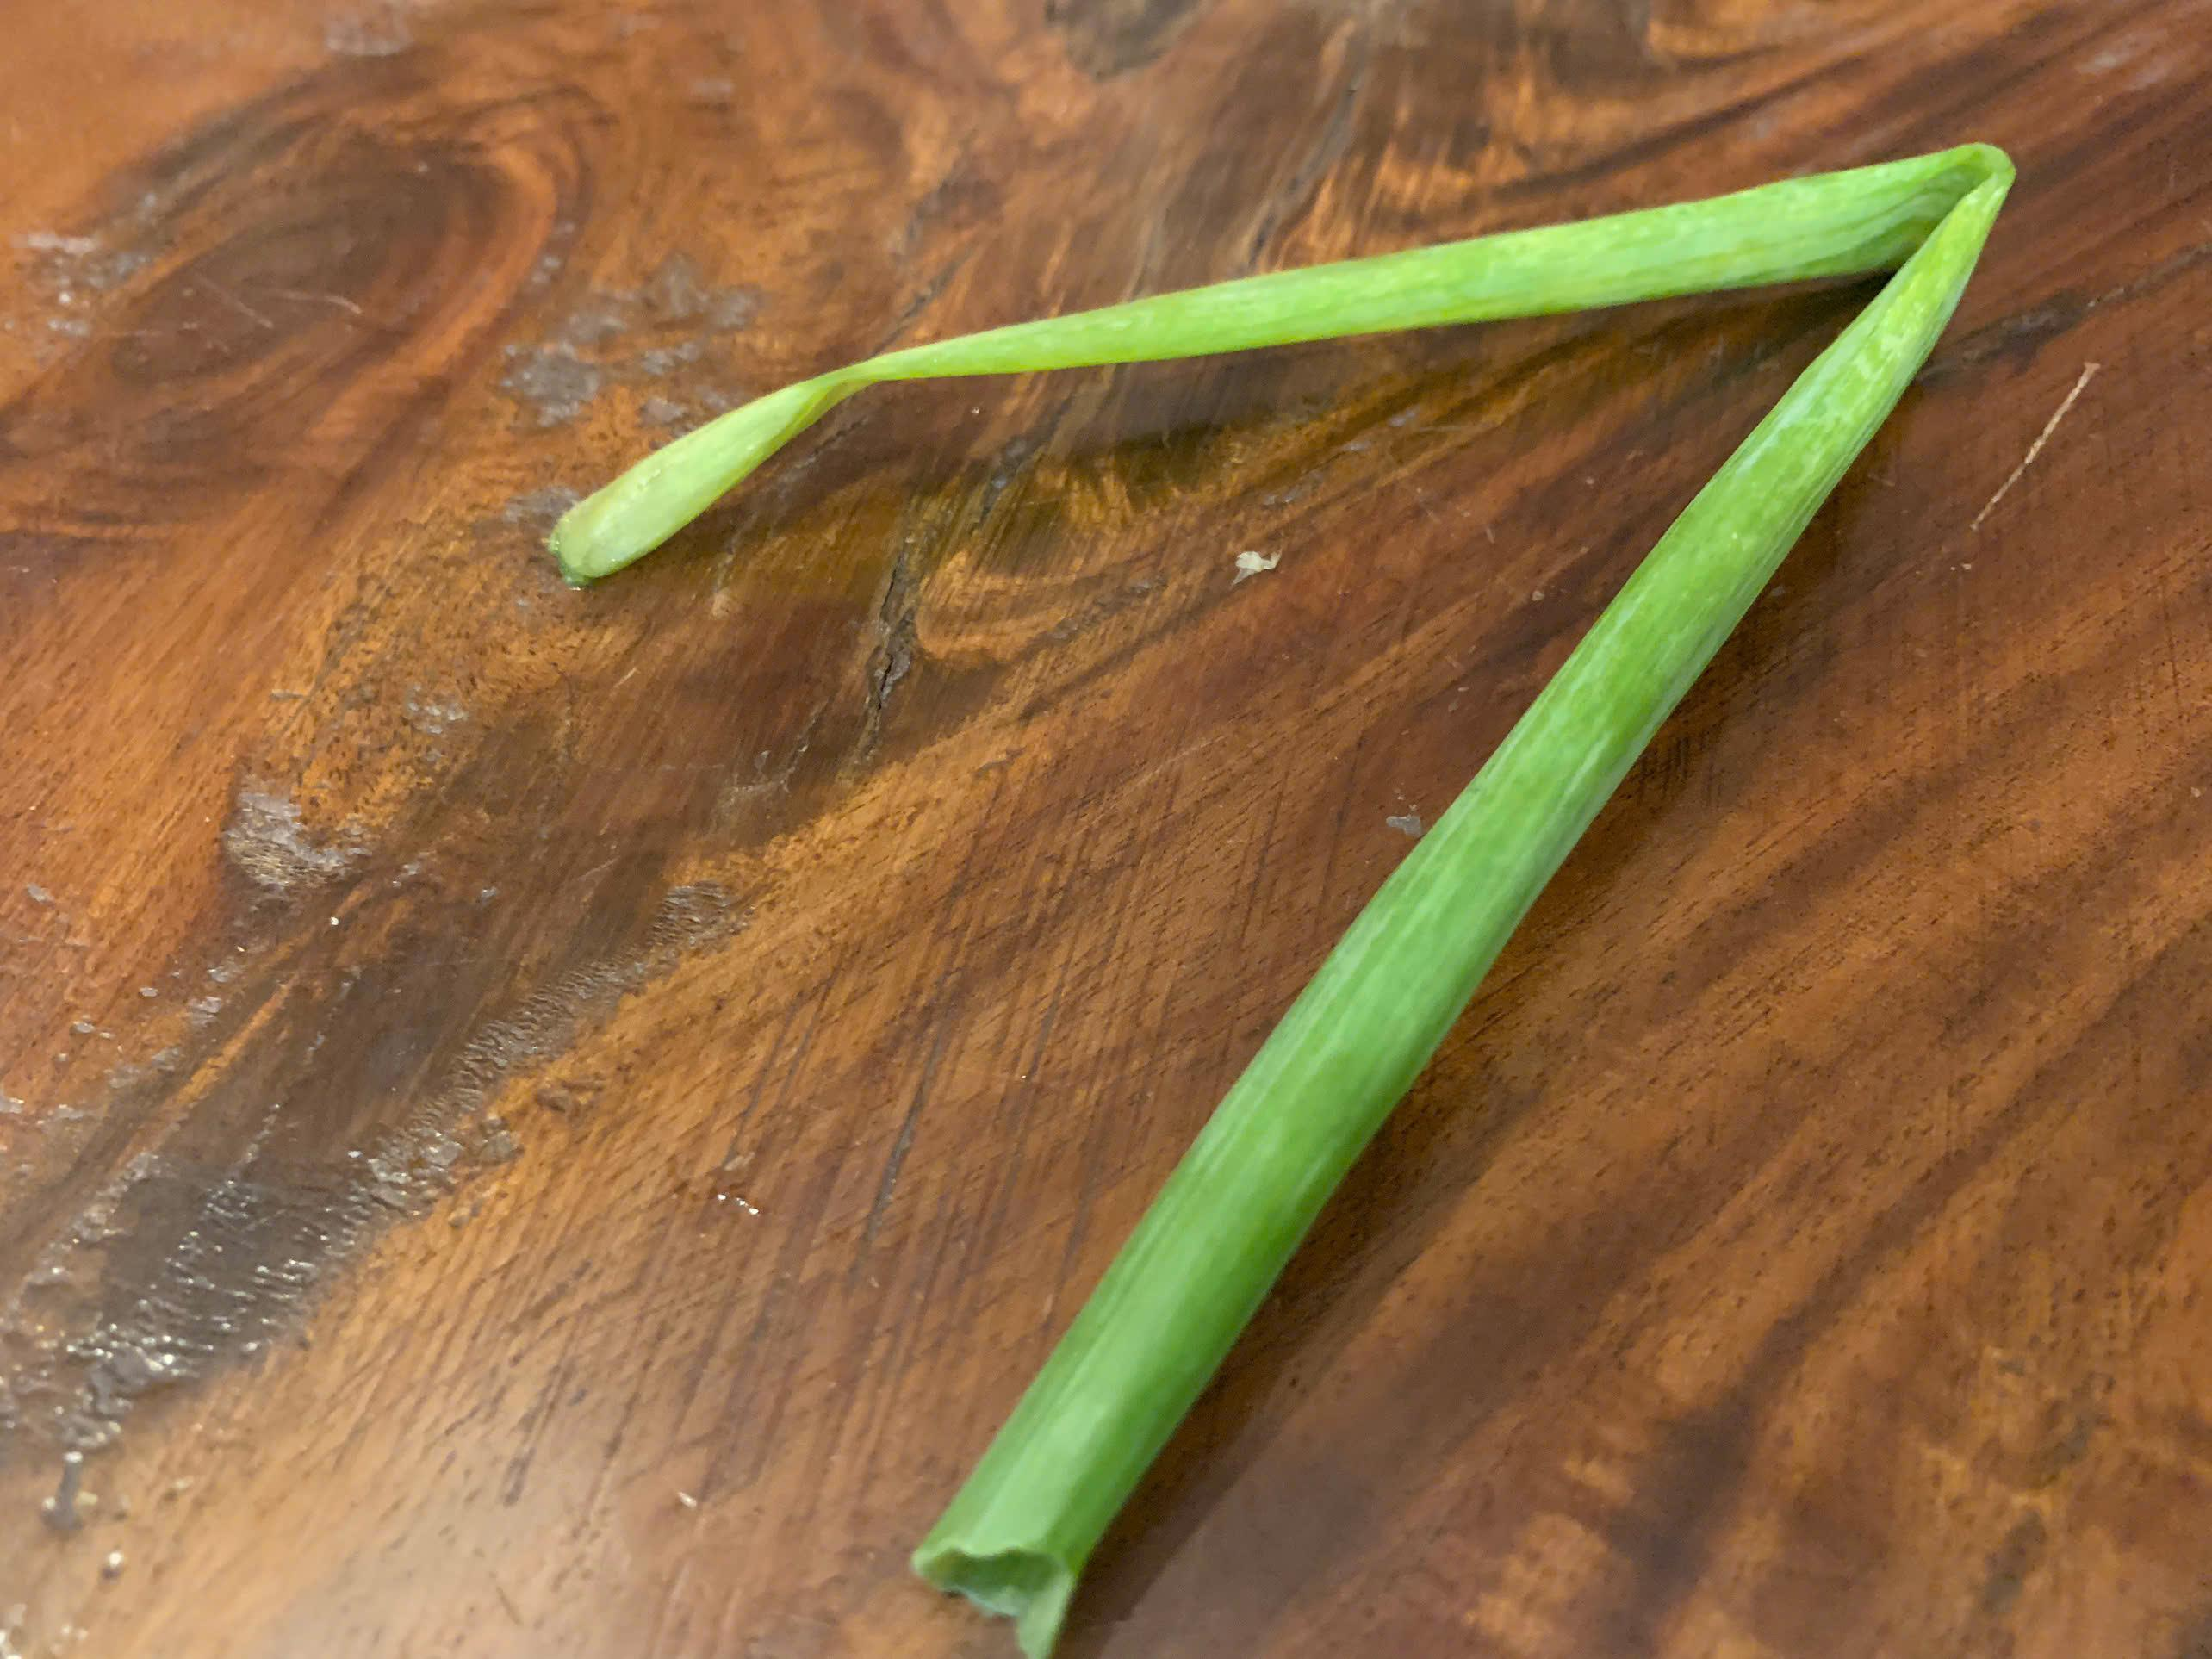Huu co: (557, 153, 2047, 1608)
